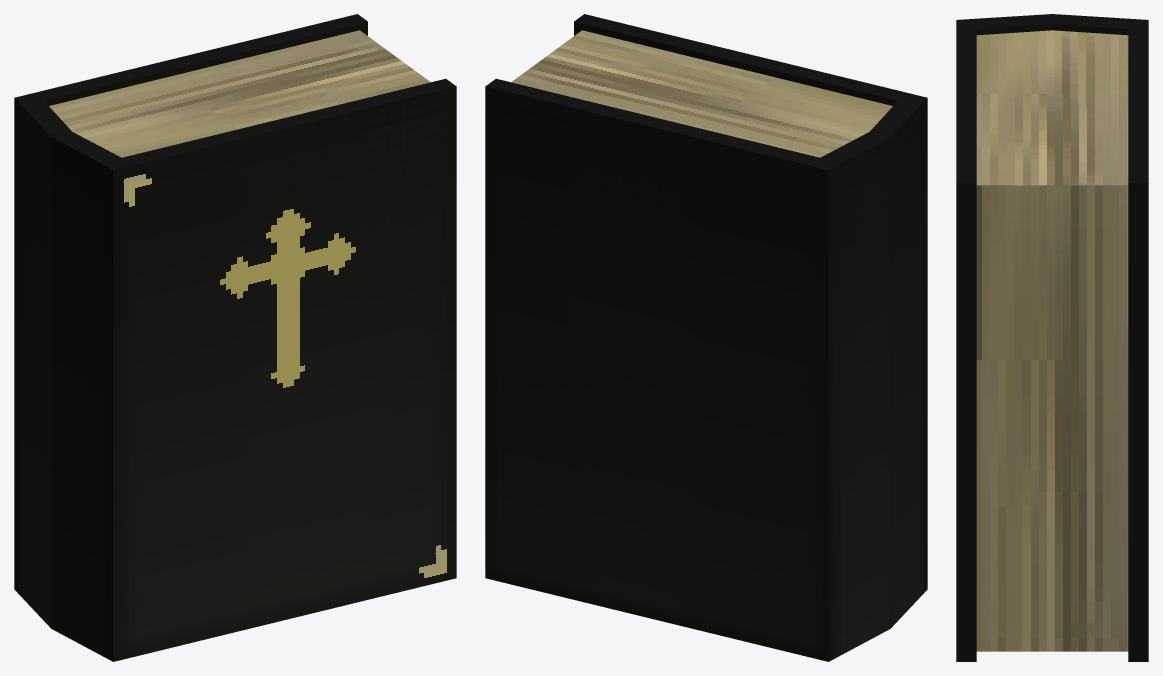
The model's file is MerrinsBible.glb.
3 renders of one model, left to right at view 1: azimuth 30°, elevation 25°; view 2: azimuth 150°, elevation 25°; view 3: azimuth 270°, elevation 25°, orthographic. The views are drawn at different scales.
Parts seen in each view (by area): view 1: Merrins Bible; view 2: Merrins Bible; view 3: Merrins Bible.
Boxes of the visible parts, x1,y1,x2,y2 form: Merrins Bible: (14, 14, 456, 661); Merrins Bible: (485, 14, 927, 661); Merrins Bible: (956, 14, 1148, 661).
Size of the model in its own units: 0.4579 by 0.6051 by 0.2205.
Materials: 1 (1 with a texture image).
